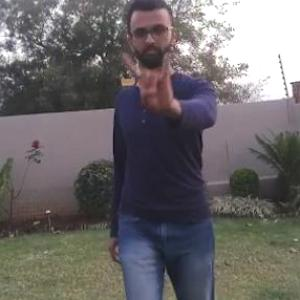takeoff-hand: (125, 56, 179, 112)
